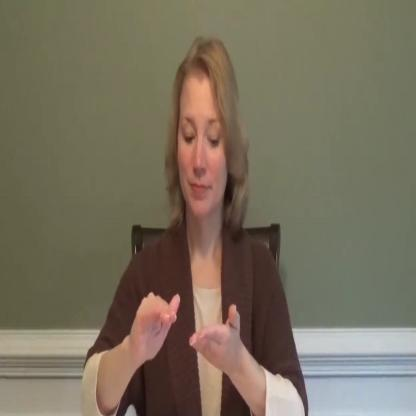ExcuseMe: (87, 31, 306, 416)
